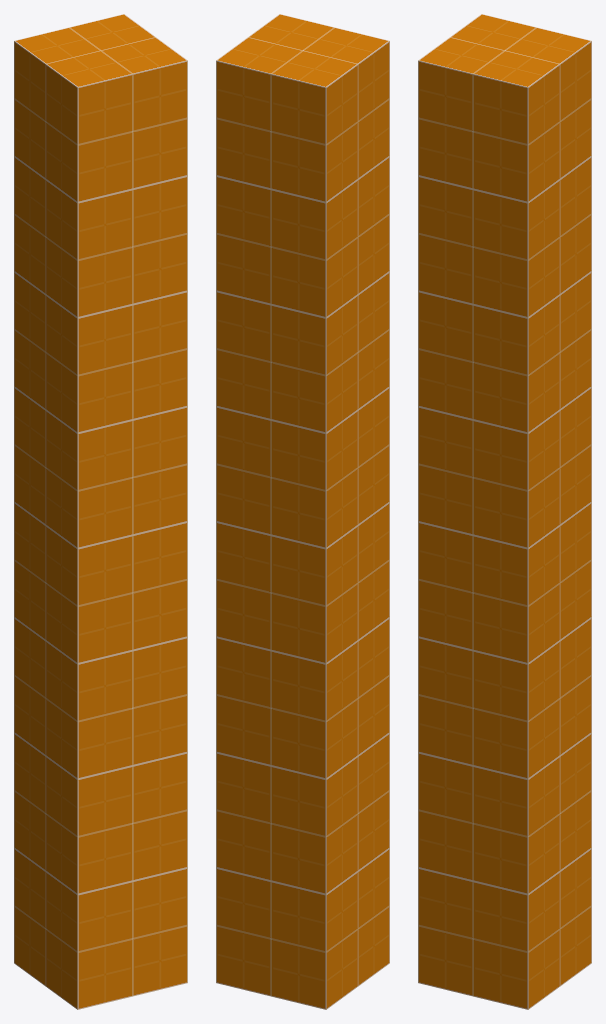
File: Block_1x1x8.obj
3 views of the same model, side by side, from view 1: azimuth 30°, elevation 25°; view 2: azimuth 150°, elevation 25°; view 3: azimuth 330°, elevation 25° (orthographic).
Visible parts, largest first — view 1: Block_1x1x8_Cube.143; view 2: Block_1x1x8_Cube.143; view 3: Block_1x1x8_Cube.143.
Part boxes in pixels (<box>): Block_1x1x8_Cube.143: <box>14,14,187,1009</box>; Block_1x1x8_Cube.143: <box>216,14,389,1009</box>; Block_1x1x8_Cube.143: <box>418,14,591,1009</box>.
Bounding box in the file's own units: 1 × 8 × 1.
1 material, 1 textured.
